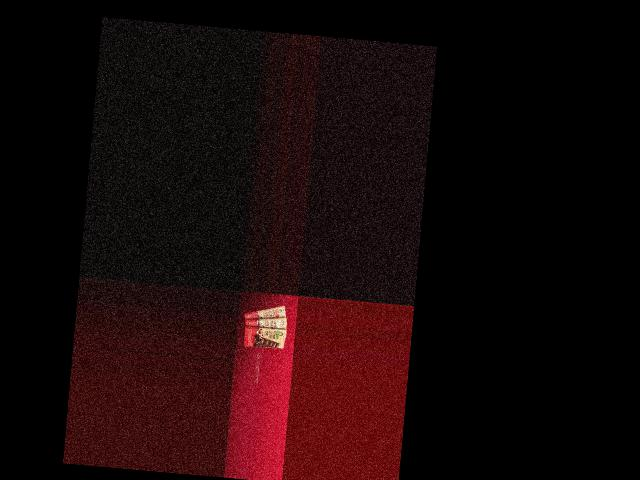chocolate: (241, 302, 289, 327)
